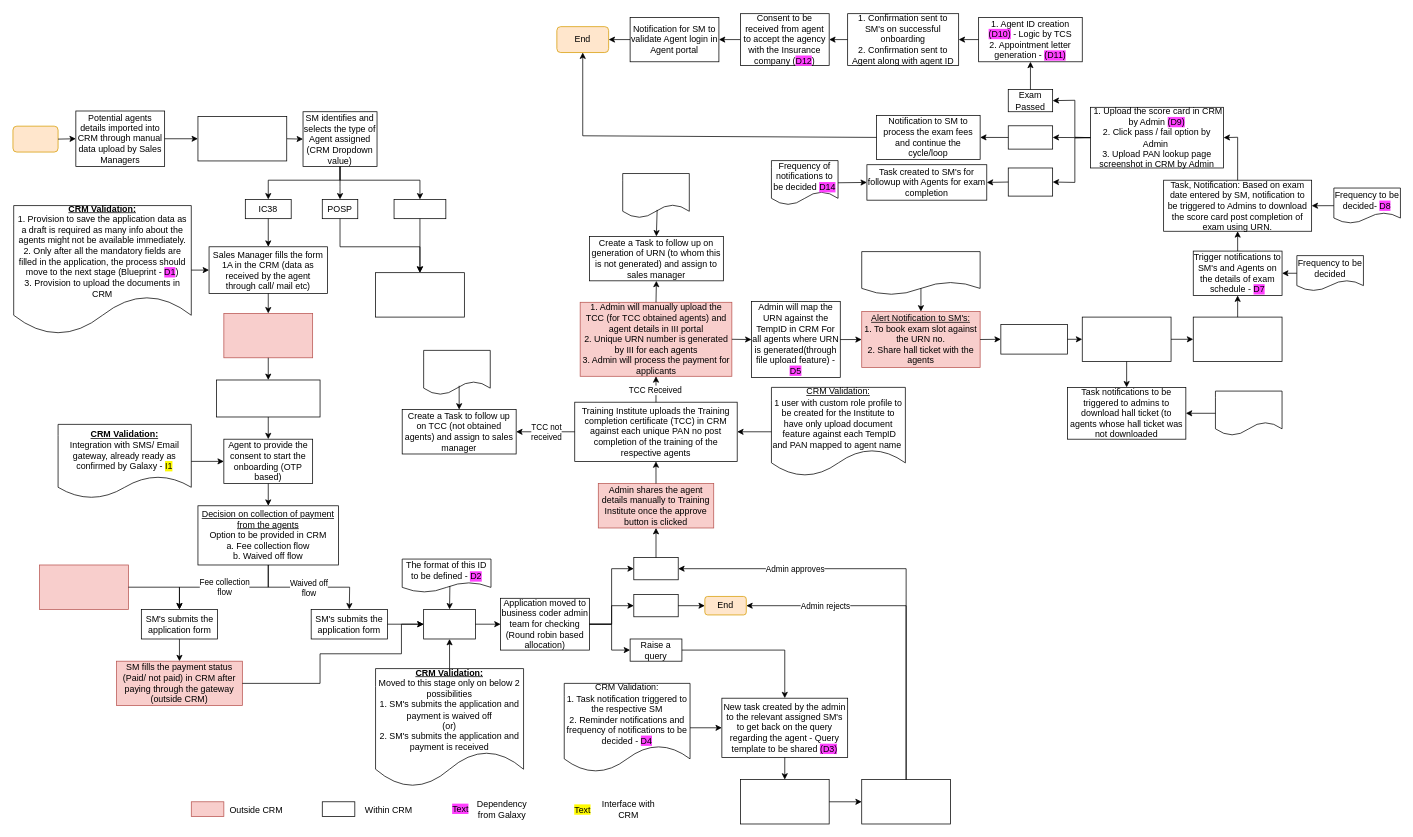
The diagram is 1413 pixels wide and 837 high, and some of its shapes have lost their labels. Each missing label, with the box of its shape:
Admin uploads the hall ticket against Temp ID manually in CRM: (1193, 316, 1282, 361)
All the agents uploaded by SM is mapped to the respective individual: (197, 116, 287, 161)
Approve: (633, 557, 678, 580)
Composite: (393, 199, 446, 219)
Create Temp ID: (423, 609, 475, 639)
Exam Failed: (1008, 125, 1053, 149)
Exam not attempted: (1008, 167, 1053, 196)
Frequency of notifications to be decided D13: (423, 350, 490, 395)
Frequency of notifications to be decided D15: (622, 173, 689, 218)
Frequency of notifications to be decided D16: (1215, 390, 1282, 435)
KYC validated manually by SM's(PAN used as unique identifier): (223, 313, 313, 358)
Notification sent back to Admin: (861, 779, 951, 824)
Notification sent to Admin to download Hall ticket using URN no. from III: (1082, 316, 1171, 361)
Pennydrop validation - MVP-2 (I); exact details to be defined: (39, 564, 128, 609)
Reject: (633, 594, 678, 617)
Reminder notifications (D6) to be triggered (Frequency to be decided): (861, 251, 980, 295)
Shown in separate flow: (375, 272, 464, 317)
SM reviews, acts and resolves the task: (740, 779, 829, 824)
SM's enter the exam date in CRM: (1000, 324, 1067, 354)
SM's uploads the relevant KYC/ Application documents: (216, 379, 320, 417)
Start: (12, 125, 58, 152)
